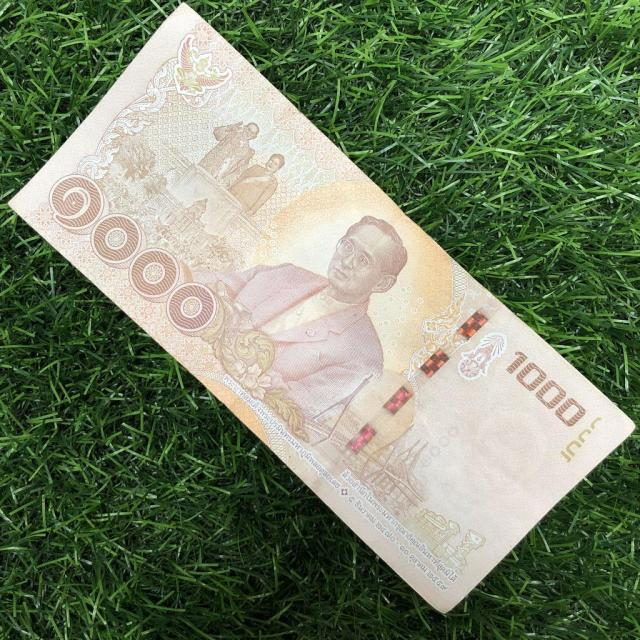THAI1000: (10, 5, 634, 612)
